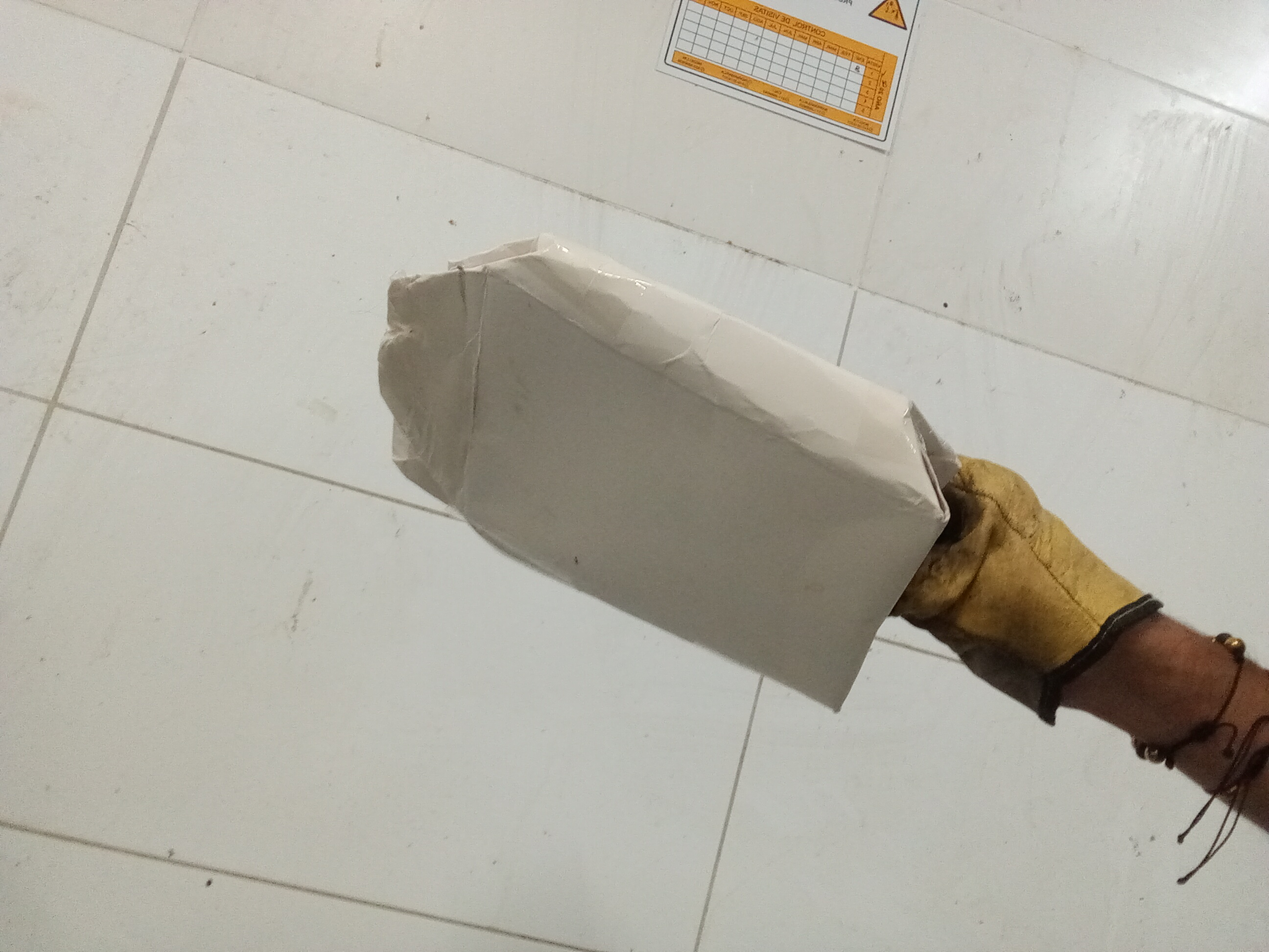Carton: (378, 228, 946, 712)
